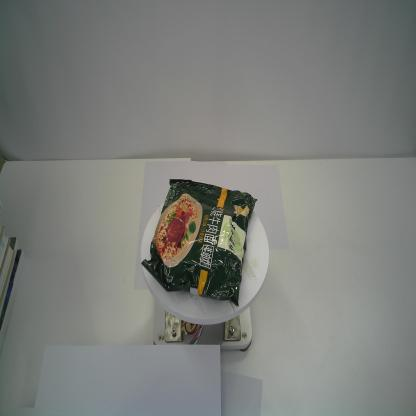Instant Noodles: (141, 179, 258, 307)
